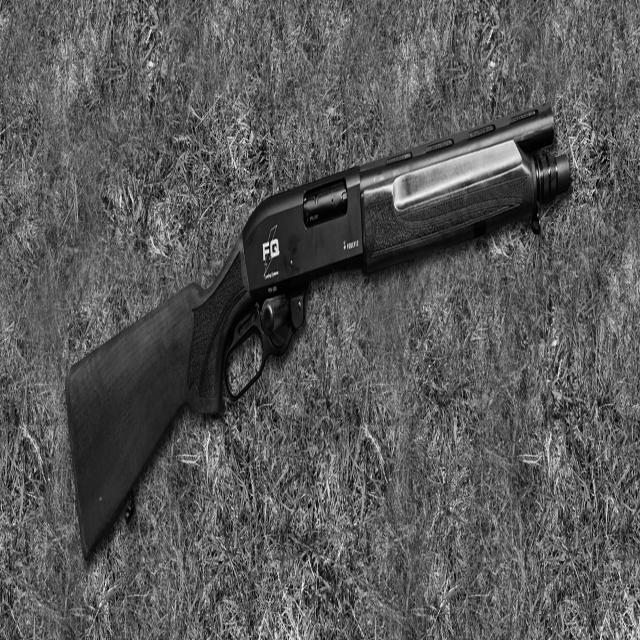Short-Gun: (56, 69, 592, 571)
